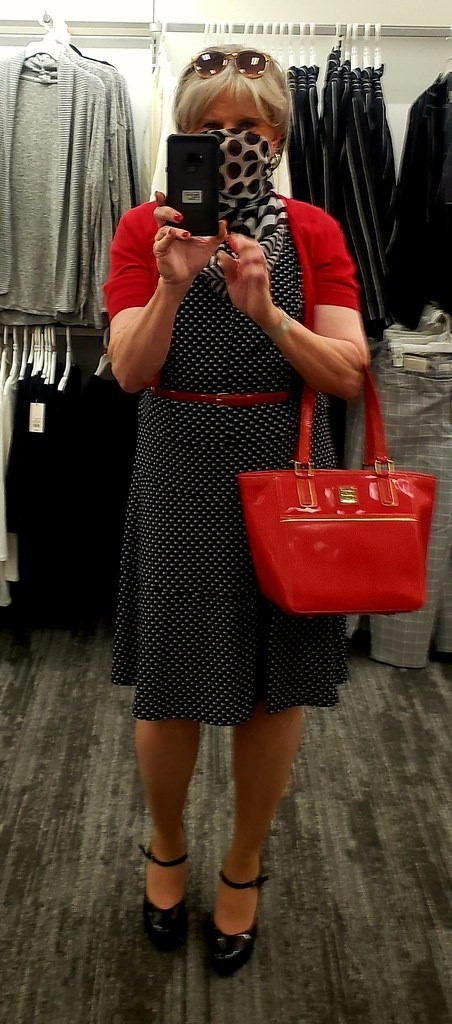face_with_mask: (181, 43, 285, 201)
